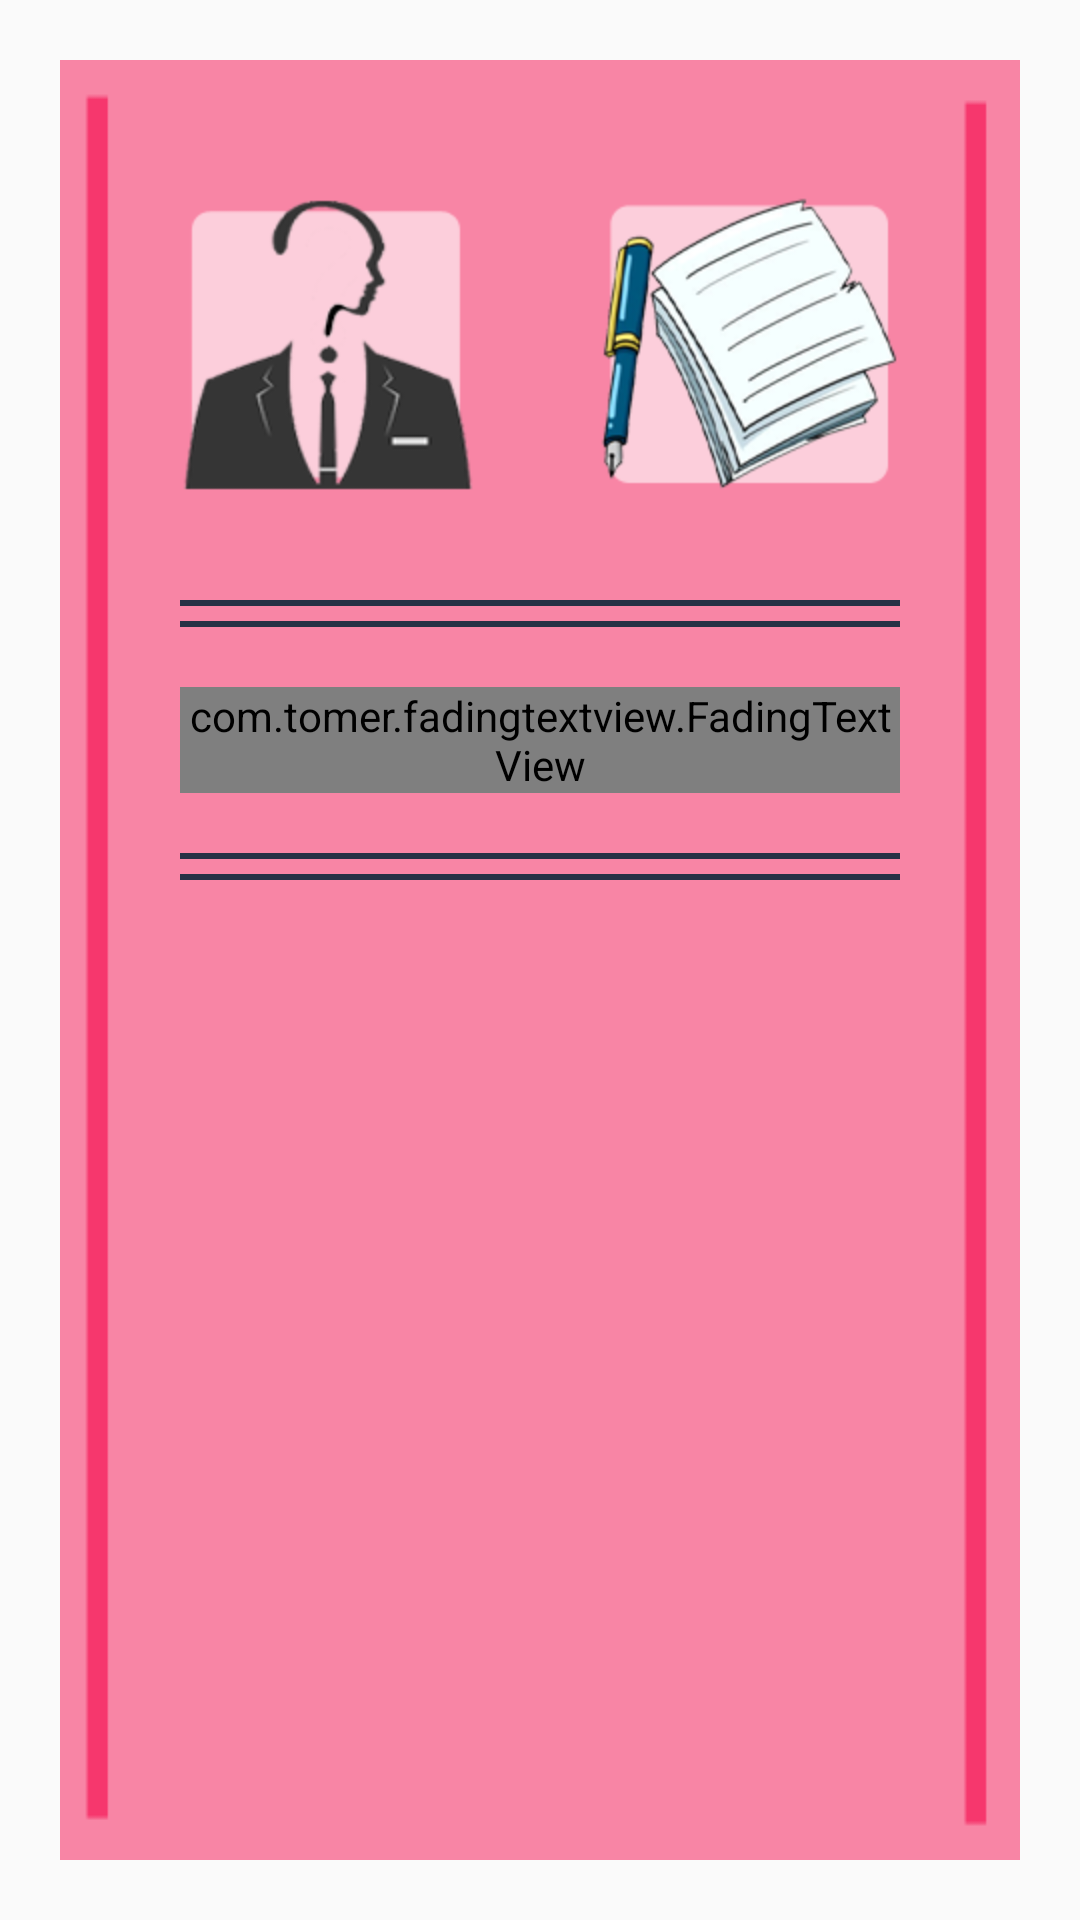

Screen size 1080x1920. Icon name, then its center in pixels as (x,y):
checkman: (328,345)
paperpen: (749,343)
